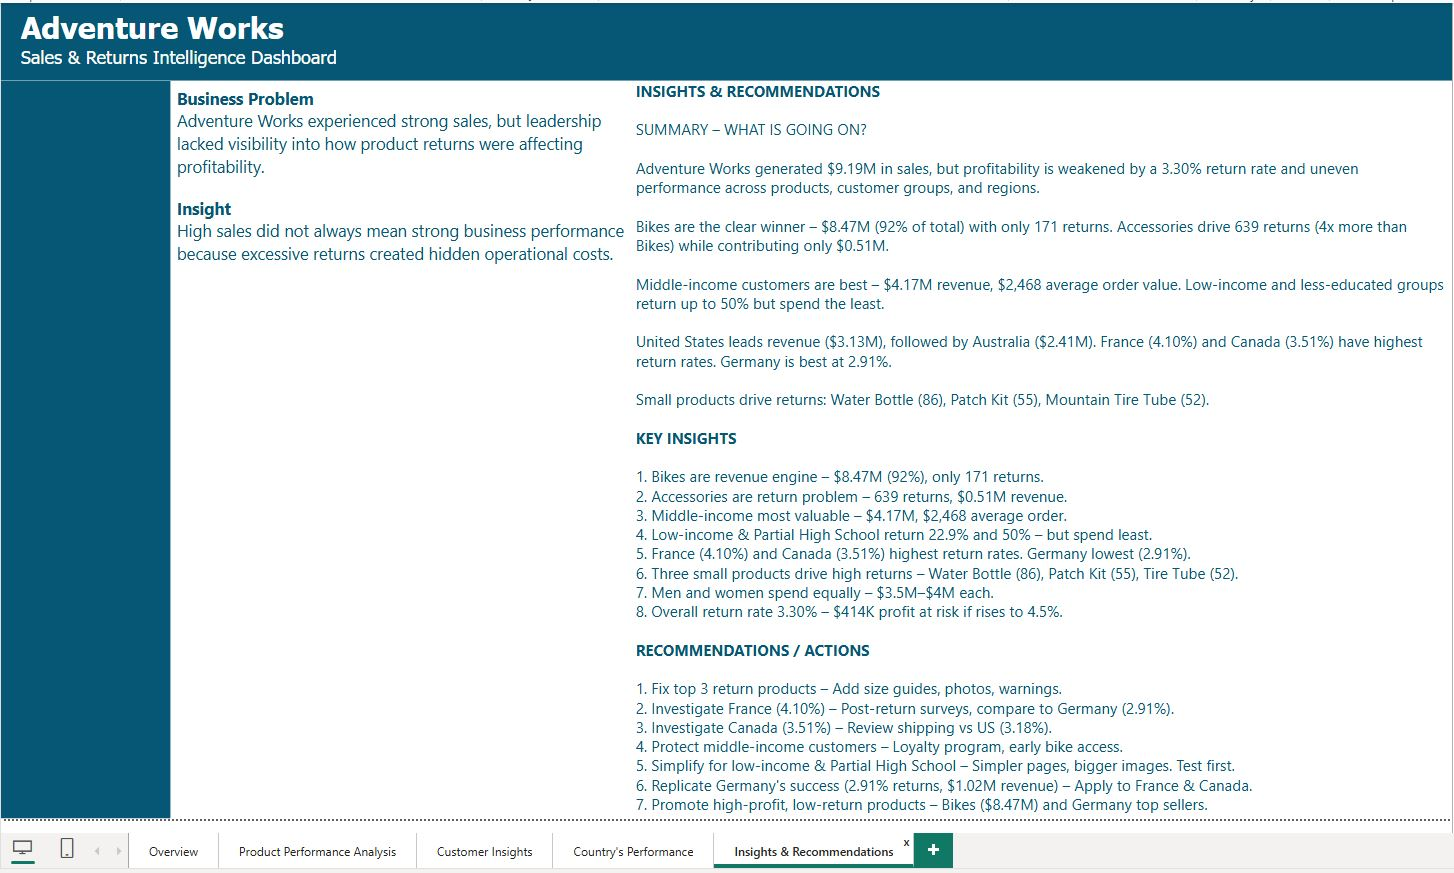

The page's visual inventory and layout, read from the dashboard file:
{"tool":"powerbi","page":{"name":"Insights & Recommendations","canvas":[1280,720],"ordinal":4},"visuals":[{"type":"shape","box":[0,0,1280,68.5],"z":0},{"type":"shape","box":[0,69,149.7,650.6],"z":1},{"type":"textbox","box":[12.1,0,420.3,64.5],"z":2},{"type":"textbox","box":[555.1,69,724.9,650.6],"z":6},{"type":"textbox","box":[149.7,69,405.4,232.4],"z":7}]}

Visuals, with their boxes on the page's 1280x720 design canvas (x1, y1, x2, y2). These are canvas units, not pixel positions in the 1454x873 screenshot, which may show the page scaled, cropped or inside an application window:
shape: select_region(0, 0, 1280, 68)
shape: select_region(0, 69, 150, 720)
textbox: select_region(12, 0, 432, 64)
textbox: select_region(555, 69, 1280, 720)
textbox: select_region(150, 69, 555, 301)
